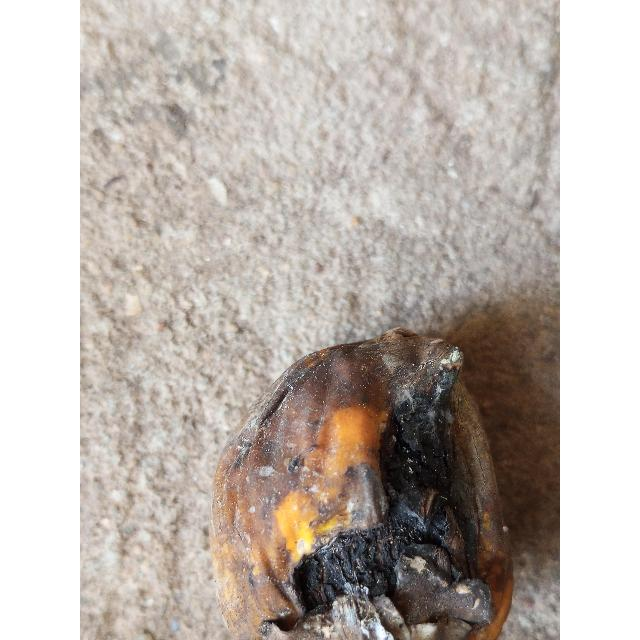damaged: (210, 331, 513, 640)
